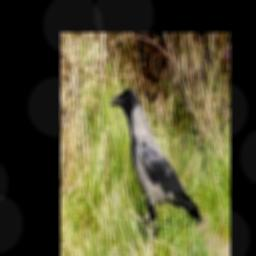Crow: (109, 88, 203, 236)
